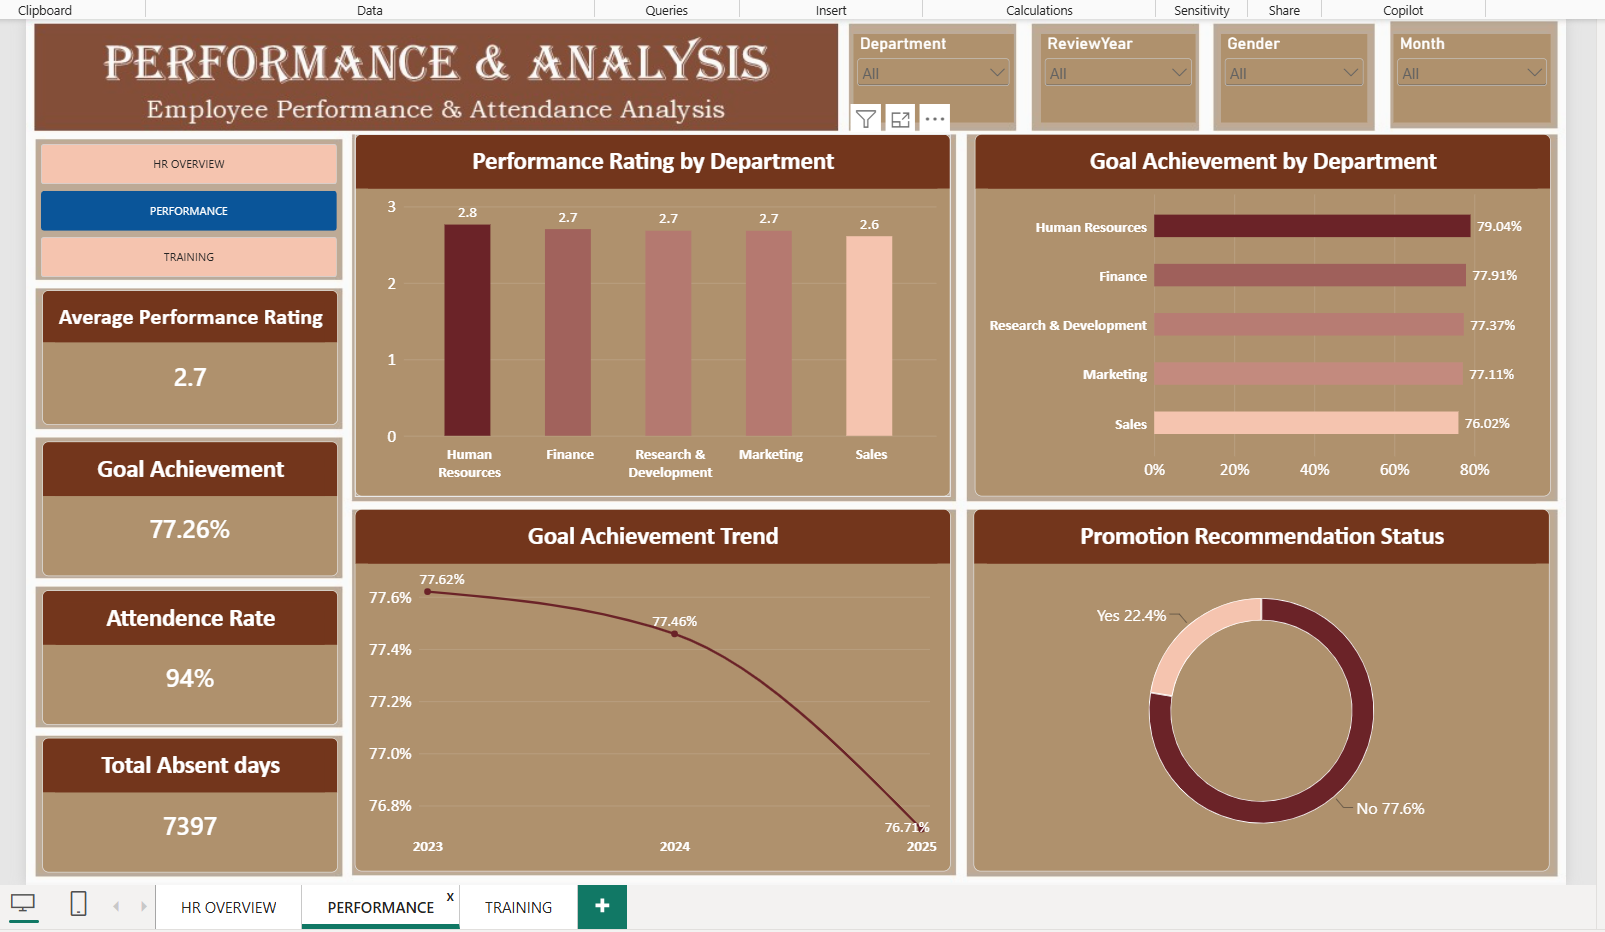

This screenshot's page, from the dashboard's own definition file:
{"tool":"powerbi","page":{"name":"PERFORMANCE","canvas":[1920,1080],"ordinal":1},"visuals":[{"type":"pageNavigator","box":[18.6,155.8,369.2,167.7],"z":0},{"type":"card","title":"Average Performance Rating","fields":{"Values":["calculated_table.avg_perf_rat"]},"box":[19.5,338.7,369,168],"z":1},{"type":"card","title":"Goal Achievement","fields":{"Values":["calculated_table.avg_goal_achiv"]},"box":[19.5,526.7,369,168],"z":2},{"type":"card","title":"Attendence Rate","fields":{"Values":["calculated_table.attendence_rate"]},"box":[19.5,713,369,168],"z":3},{"type":"card","title":"Total Absent days","fields":{"Values":["calculated_table.total_abse_days"]},"box":[19.5,895.6,369,168],"z":4},{"type":"slicer","fields":{"Values":["Employees_Table.Department"]},"box":[1032.2,19.3,199.8,110.4],"z":5},{"type":"slicer","fields":{"Values":["Performance_Table.ReviewYear"]},"box":[1265.3,19.3,192.8,110.4],"z":6},{"type":"slicer","fields":{"Values":["Employees_Table.Gender"]},"box":[1489.6,19.3,182.3,110.4],"z":7},{"type":"slicer","fields":{"Values":["Attendance_Table.Month"]},"box":[1705.2,19.3,196.3,110.4],"z":8},{"type":"clusteredColumnChart","title":"Performance Rating by Department","fields":{"Category":["Employees_Table.Department"],"Y":["calculated_table.avg_perf_rat"]},"box":[410.1,143.7,743,452.1],"z":9},{"type":"clusteredBarChart","title":"Goal Achievement by Department","fields":{"Category":["Employees_Table.Department"],"Y":["calculated_table.avg_goal_achiv_%"]},"box":[1182.9,143.7,718.5,452.1],"z":11},{"type":"lineChart","title":"Goal Achievement Trend","fields":{"Category":["Performance_Table.ReviewYear"],"Y":["calculated_table.Average Goal Achievement %"]},"box":[409.9,611.4,743,452.1],"z":12},{"type":"donutChart","title":"Promotion Recommendation Status","fields":{"Category":["Performance_Table.PromotionRecommended"],"Y":["CountNonNull(Performance_Table.PerformanceRecordID)"]},"box":[1182.2,611.4,718.5,452.1],"z":13}]}

Visuals, with their boxes on the page's 1920x1080 design canvas (x1, y1, x2, y2). These are canvas units, not pixel positions in the 1605x932 screenshot, which may show the page scaled, cropped or inside an application window:
pageNavigator: (left=19, top=156, right=388, bottom=324)
"Average Performance Rating" card: (left=20, top=339, right=388, bottom=507)
"Goal Achievement" card: (left=20, top=527, right=388, bottom=695)
"Attendence Rate" card: (left=20, top=713, right=388, bottom=881)
"Total Absent days" card: (left=20, top=896, right=388, bottom=1064)
slicer - Employees_Table.Department: (left=1032, top=19, right=1232, bottom=130)
slicer - Performance_Table.ReviewYear: (left=1265, top=19, right=1458, bottom=130)
slicer - Employees_Table.Gender: (left=1490, top=19, right=1672, bottom=130)
slicer - Attendance_Table.Month: (left=1705, top=19, right=1902, bottom=130)
"Performance Rating by Department" clusteredColumnChart: (left=410, top=144, right=1153, bottom=596)
"Goal Achievement by Department" clusteredBarChart: (left=1183, top=144, right=1901, bottom=596)
"Goal Achievement Trend" lineChart: (left=410, top=611, right=1153, bottom=1064)
"Promotion Recommendation Status" donutChart: (left=1182, top=611, right=1901, bottom=1064)
